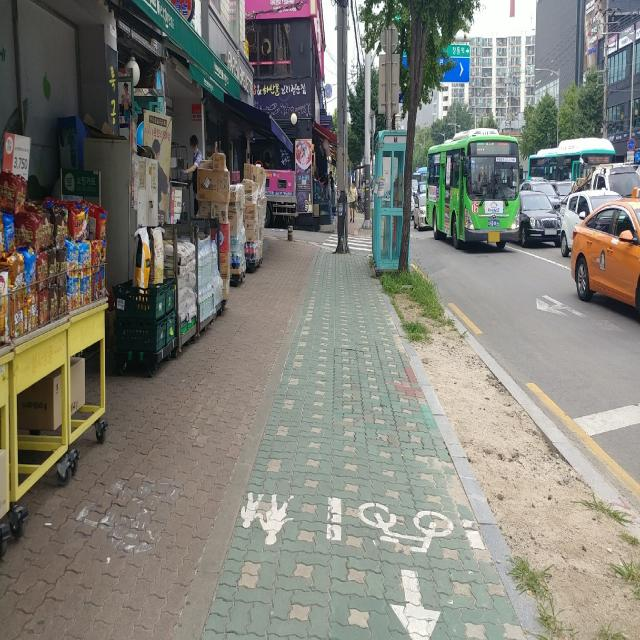횡단보도: (322, 234, 372, 252)
